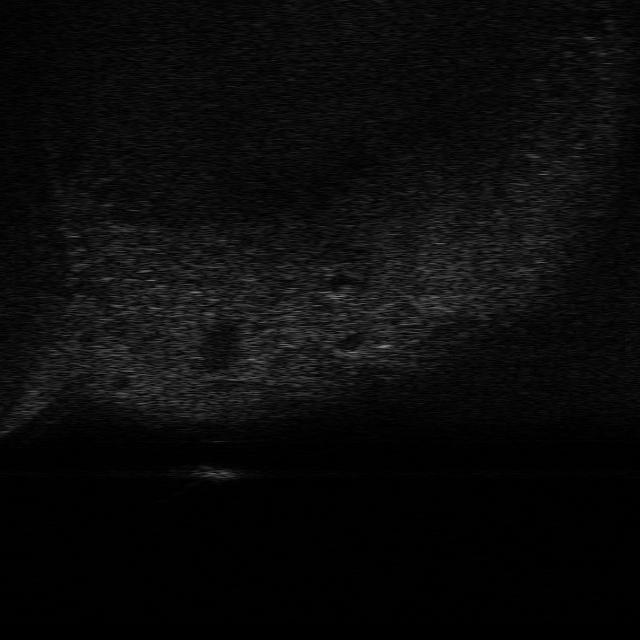cube: (188, 461, 248, 483)
